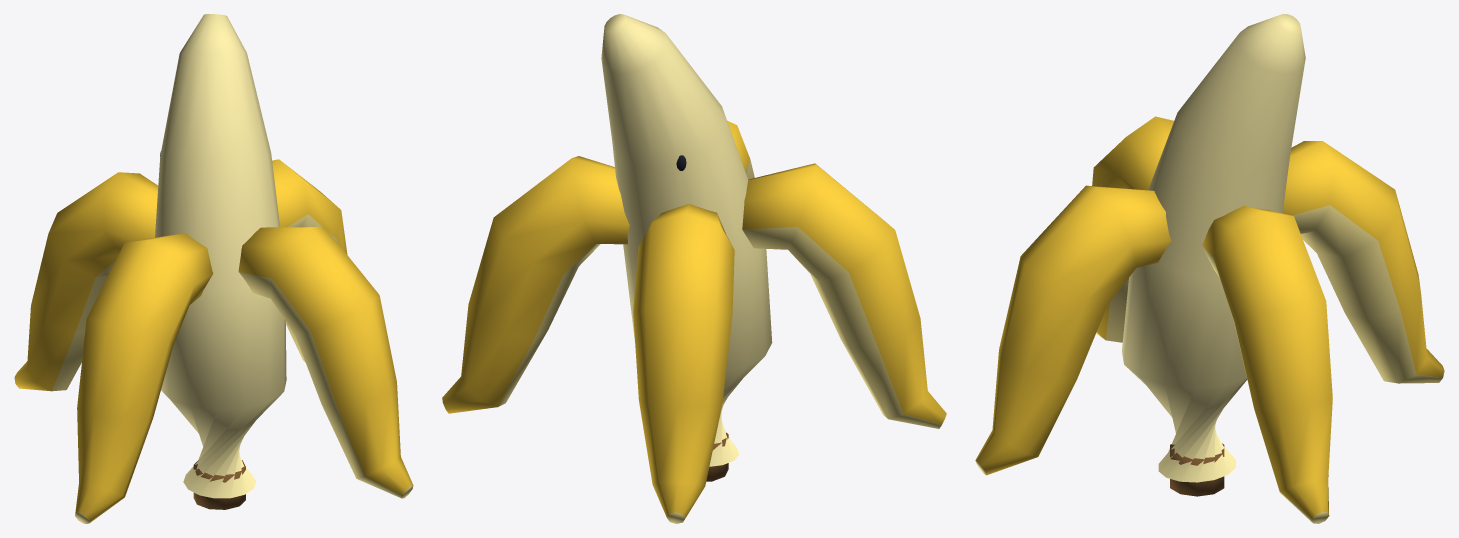
The model's file is banana.glb.
3 renders of one model, left to right at view 1: azimuth 30°, elevation 25°; view 2: azimuth 150°, elevation 25°; view 3: azimuth 270°, elevation 25°, orthographic. The views are drawn at different scales.
Parts seen in each view (by area): view 1: Banana_Sculpture; view 2: Banana_Sculpture; view 3: Banana_Sculpture.
Boxes of the visible parts, box(x1,y1,x2,y2) form: Banana_Sculpture: box(14, 14, 413, 523); Banana_Sculpture: box(442, 14, 946, 523); Banana_Sculpture: box(975, 14, 1444, 523).
Bounding box in the file's own units: 0.2953 × 0.3381 × 0.2953.
